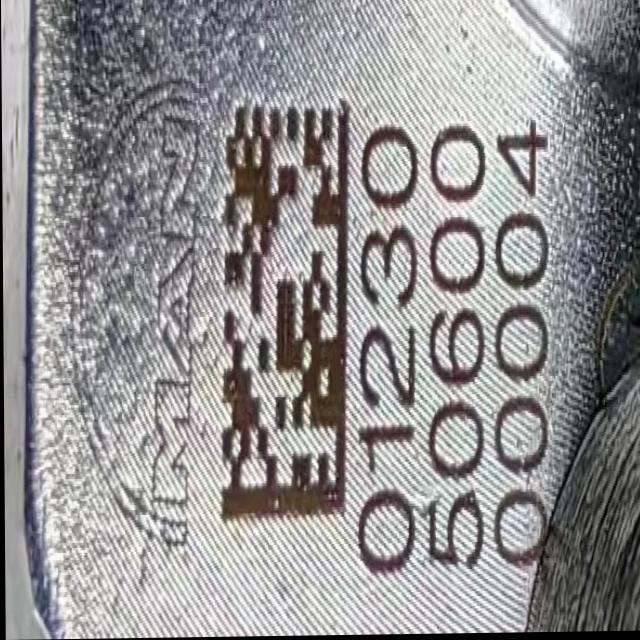dmc: (220, 108, 348, 521)
